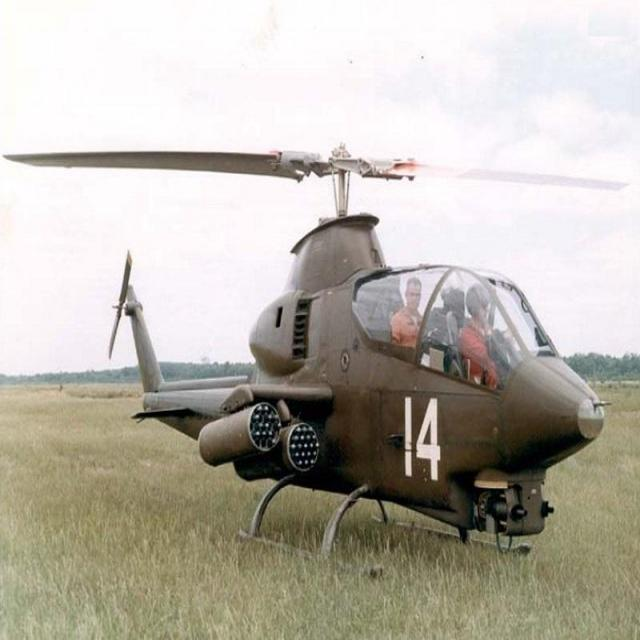MIL_HELO: (0, 125, 640, 587)
